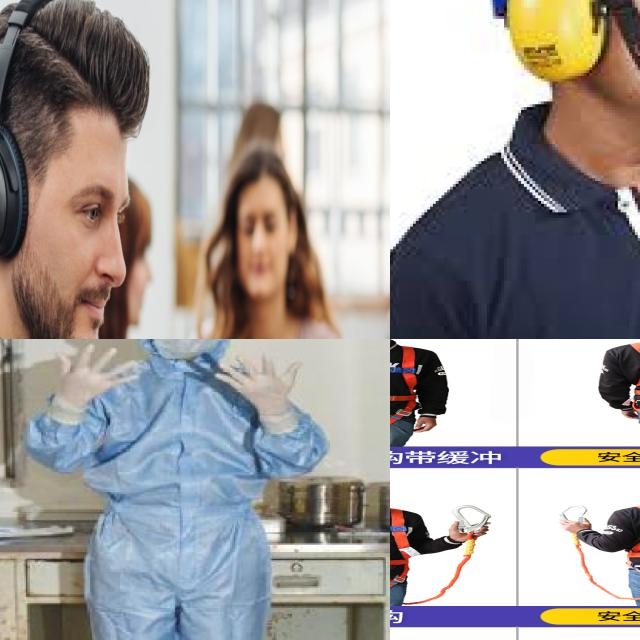Ear-protection: (0, 0, 143, 339), (501, 0, 609, 81)
Harness: (390, 413, 420, 633)
No_Glasses: (46, 154, 140, 254)
face_mask: (152, 339, 218, 358)
hand_glove: (54, 342, 141, 405), (220, 357, 310, 408)
person: (32, 339, 332, 640)
